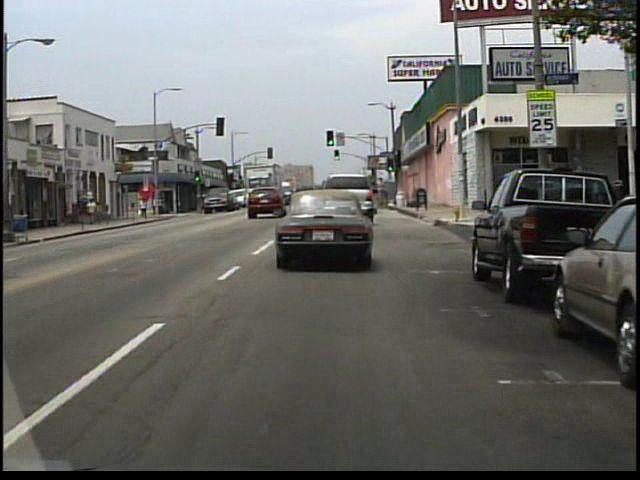person: (88, 197, 99, 225), (97, 200, 105, 224), (141, 198, 150, 218)
